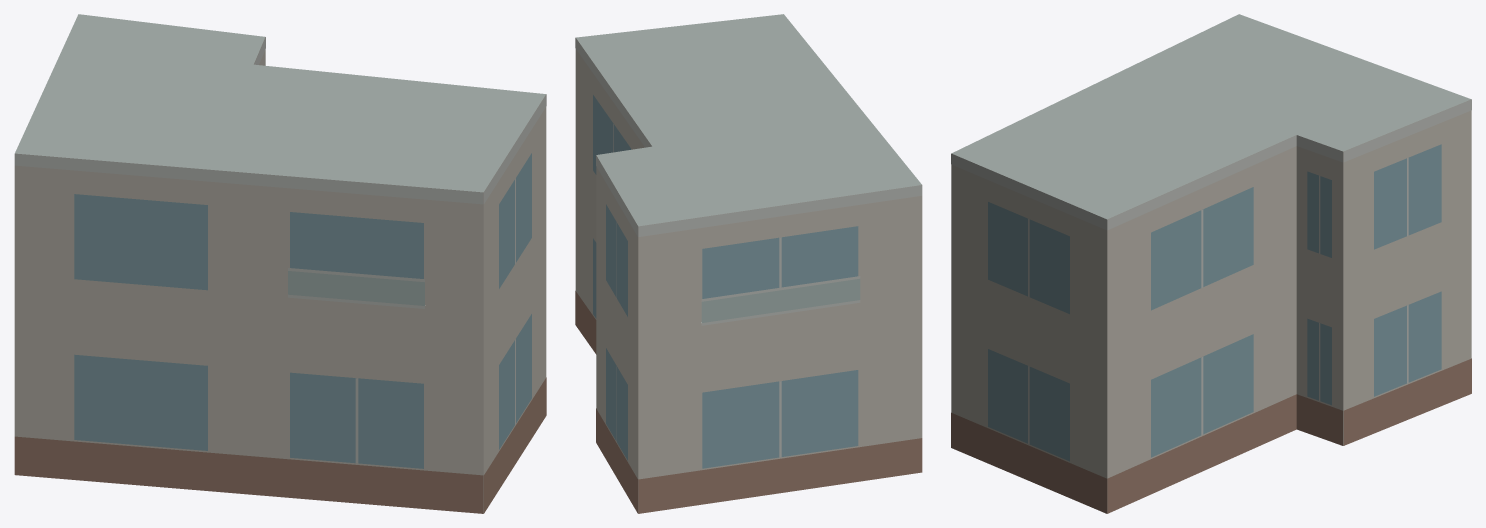
The model's file is survey-upis-32509746.glb.
3 renders of one model, left to right at view 1: azimuth 30°, elevation 25°; view 2: azimuth 150°, elevation 25°; view 3: azimuth 270°, elevation 25°, orthographic. The views are drawn at different scales.
Parts seen in each view (by area): view 1: survey-upis-32509746.tmp; view 2: survey-upis-32509746.tmp; view 3: survey-upis-32509746.tmp.
Boxes of the visible parts, bbox=[...] form: survey-upis-32509746.tmp: bbox=[14, 14, 546, 513]; survey-upis-32509746.tmp: bbox=[575, 14, 922, 513]; survey-upis-32509746.tmp: bbox=[951, 14, 1471, 513].
Bounding box in the file's own units: 9.74 × 6.5 × 10.42.
